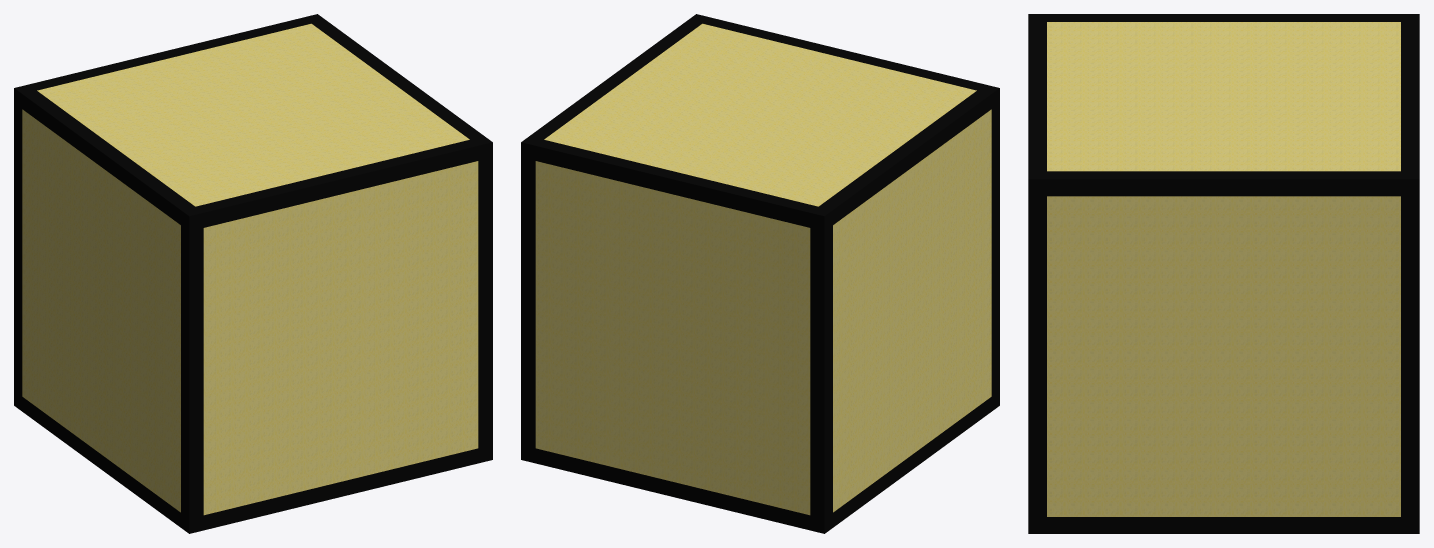
File: Sand1.glb
3 renders of one model, left to right at view 1: azimuth 30°, elevation 25°; view 2: azimuth 150°, elevation 25°; view 3: azimuth 270°, elevation 25°, orthographic. The views are drawn at different scales.
Visible parts, largest first — view 1: Sand; view 2: Sand; view 3: Sand.
Boxes of the visible parts, x1,y1,x2,y2 form: Sand: (14,14,492,533); Sand: (521,14,999,533); Sand: (1028,14,1419,533).
Bounding box in the file's own units: 0.98 × 0.98 × 0.98.
2 materials, 1 textured.
